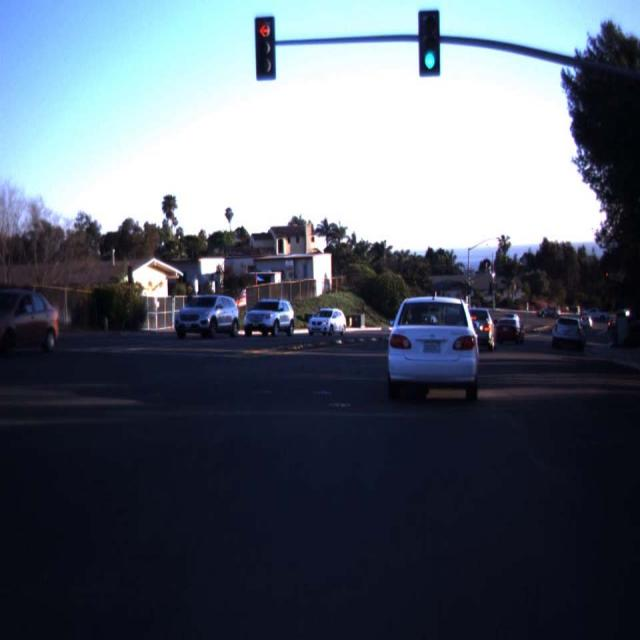yesil: (418, 11, 441, 77)
